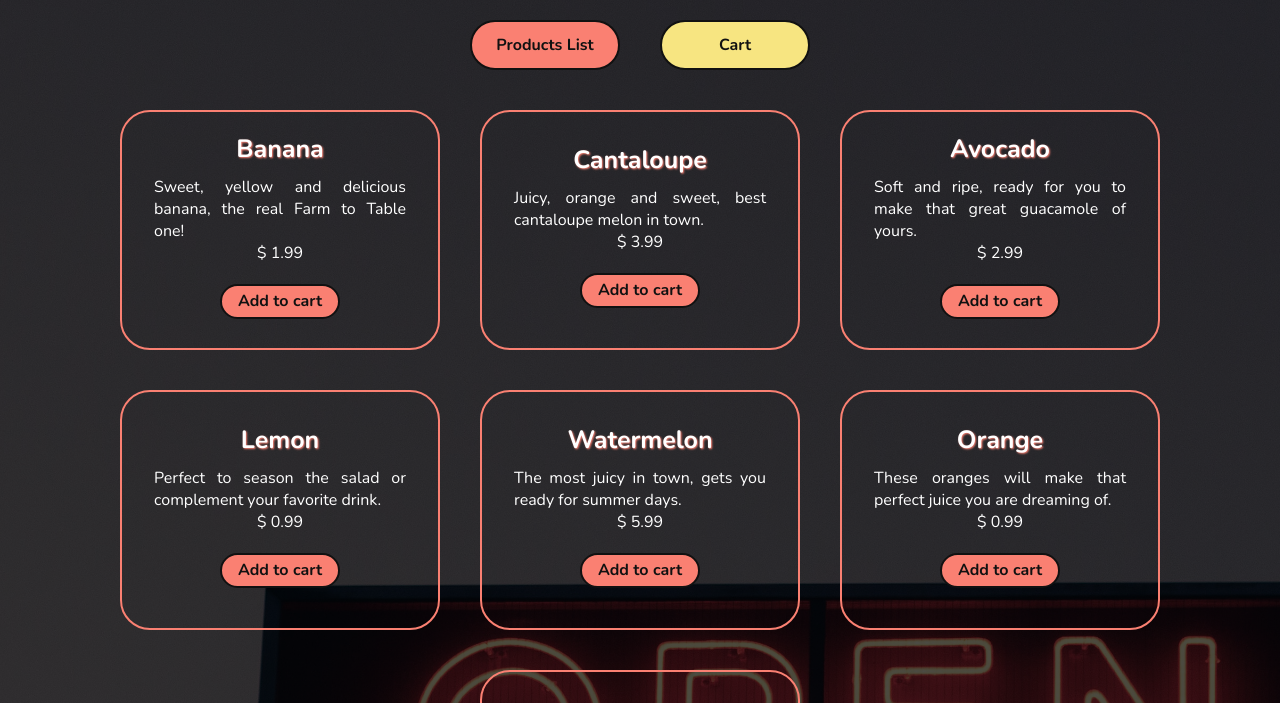
<Store /> › when the user removes a product from the cart › removes the product from the Cart page
Click the button "Add to cart" below "1.99" at (280, 301), box [220,284,340,318]
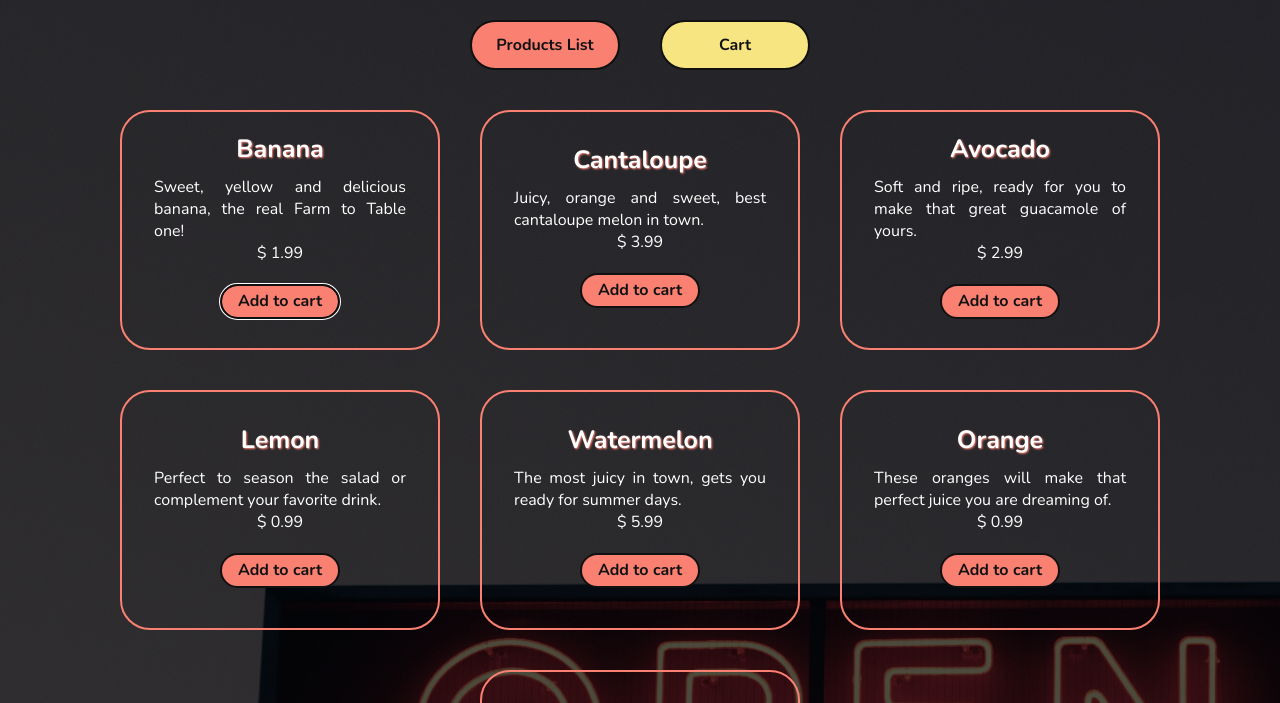
Click the button "Cart" at (735, 45), box [660,20,810,70]
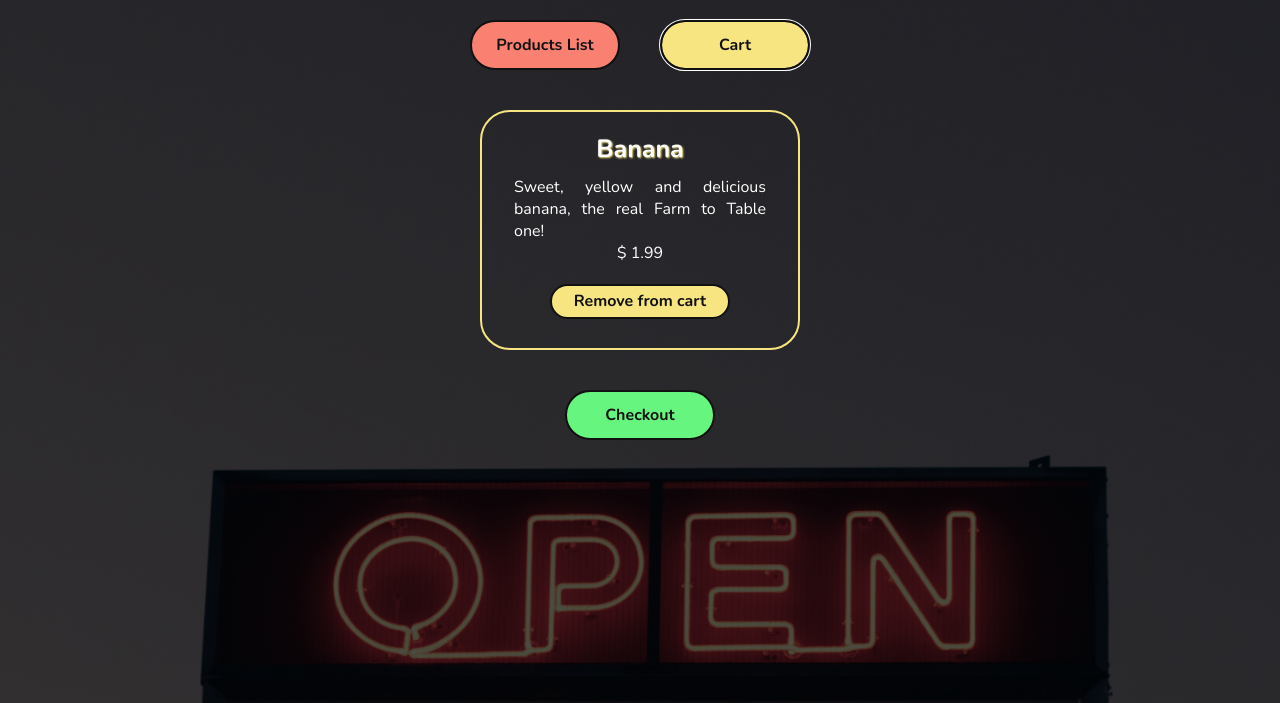
Click the button "Remove from cart" at (640, 301), box [550,284,730,318]
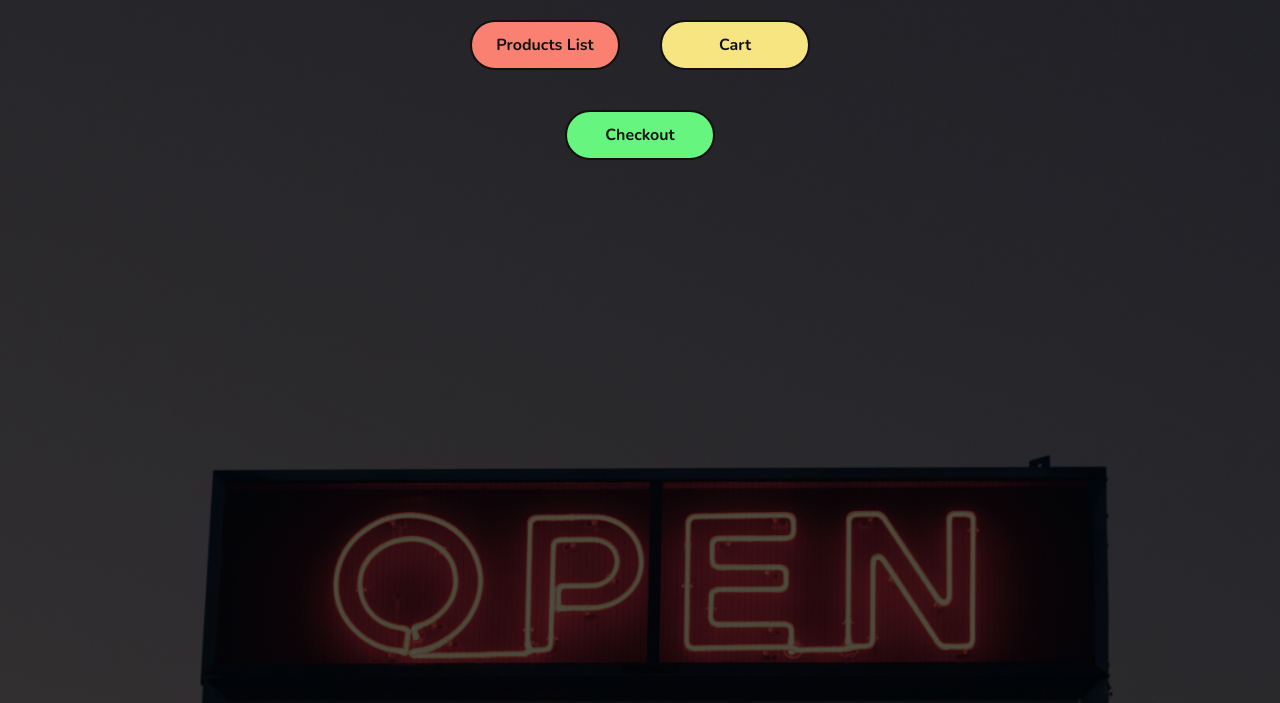
Check: the text "Sweet, yellow and delicious banana, the real Farm to Table one!" is gone
Check: the button "Remove from cart" is gone
